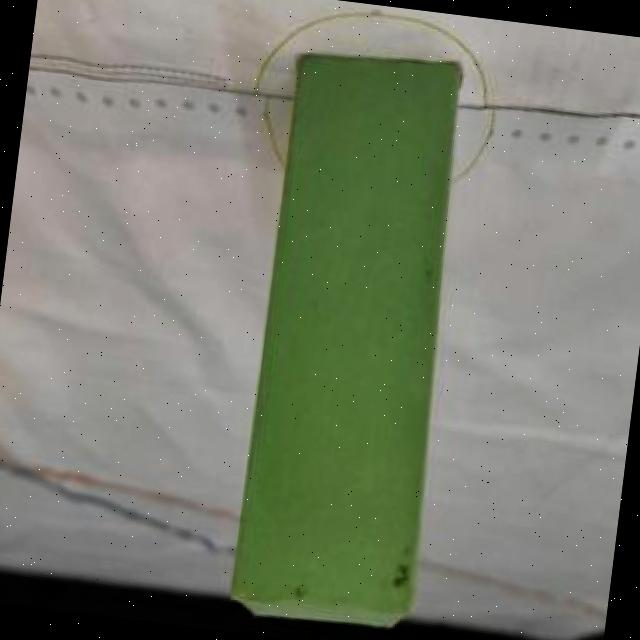greenbox: (224, 26, 478, 637)
